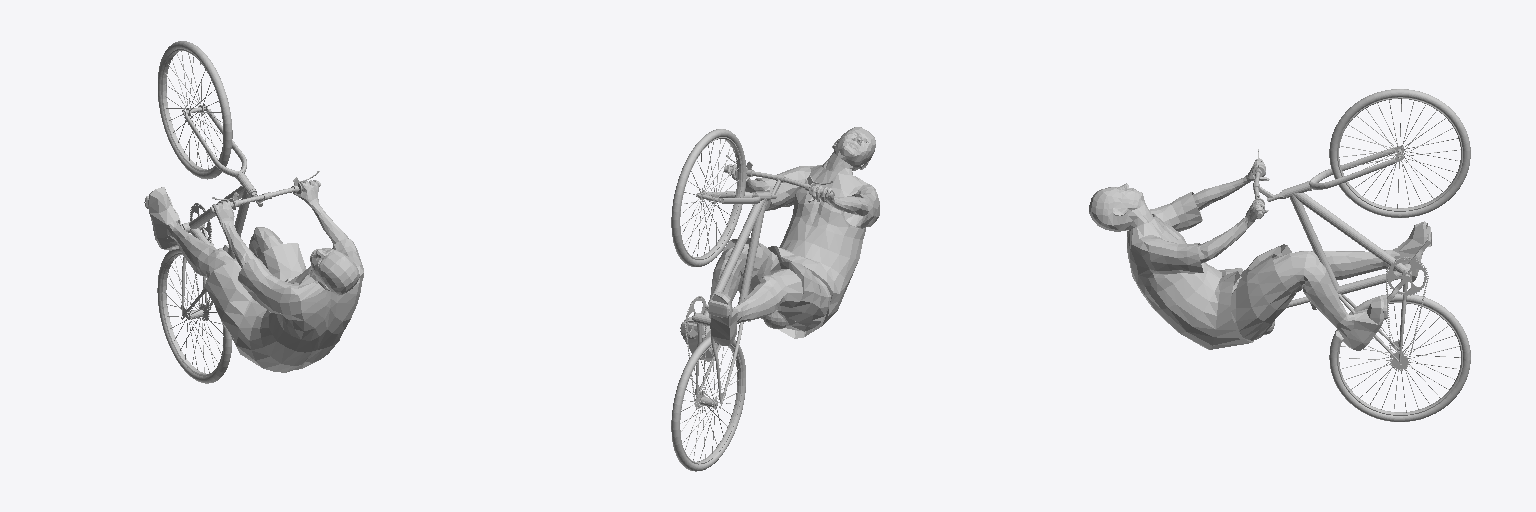
The model's file is Man and bicycle Fima N170412.obj.
3 renders of one model, left to right at view 1: azimuth 30°, elevation 25°; view 2: azimuth 150°, elevation 25°; view 3: azimuth 270°, elevation 25°, orthographic.
Visible parts, largest first — view 1: Plane; view 2: Plane; view 3: Plane.
Boxes of the visible parts, box(x1,y1,x2,y2) form: Plane: box(144, 41, 363, 383); Plane: box(671, 127, 879, 471); Plane: box(1089, 89, 1470, 421).
Size of the model in its own units: 61.94 by 167 by 174.